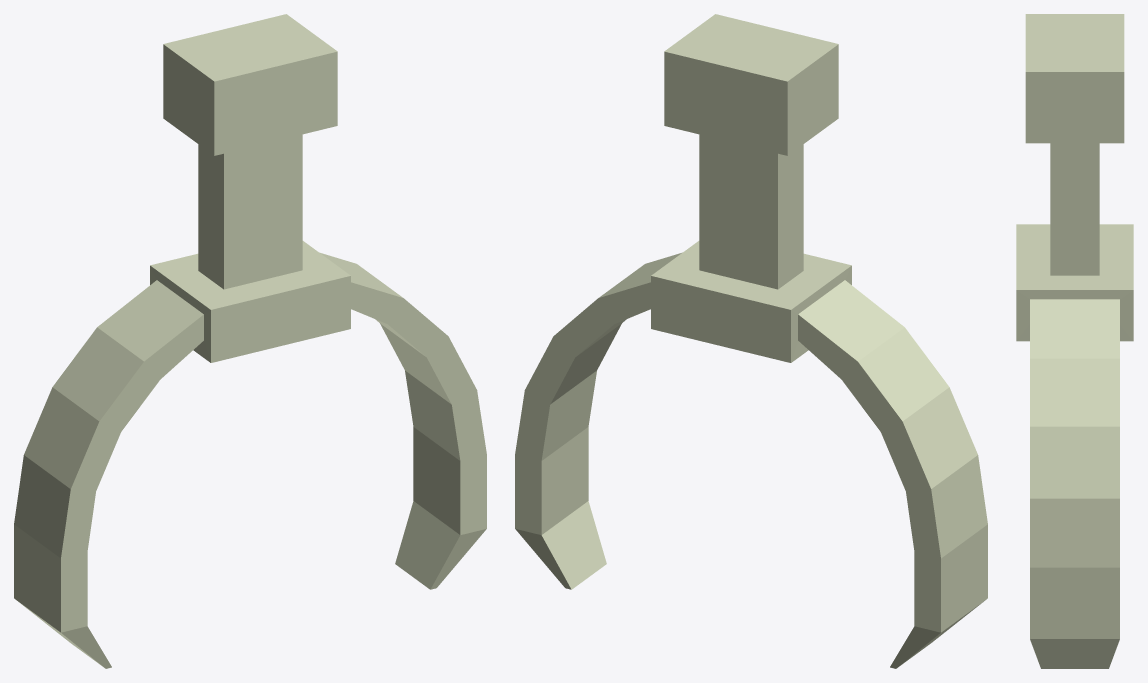
The model's file is Claw.fbx.
3 renders of one model, left to right at view 1: azimuth 30°, elevation 25°; view 2: azimuth 150°, elevation 25°; view 3: azimuth 270°, elevation 25°, orthographic. The views are drawn at different scales.
Visible parts, largest first — view 1: Claw:Object001; view 2: Claw:Object001; view 3: Claw:Object001.
Part boxes in pixels (x1,y1,x2,y2): Claw:Object001: (14, 14, 486, 668); Claw:Object001: (515, 14, 987, 668); Claw:Object001: (1016, 14, 1133, 668).
Bounding box in the file's own units: 5.14 × 6.55 × 1.27.
